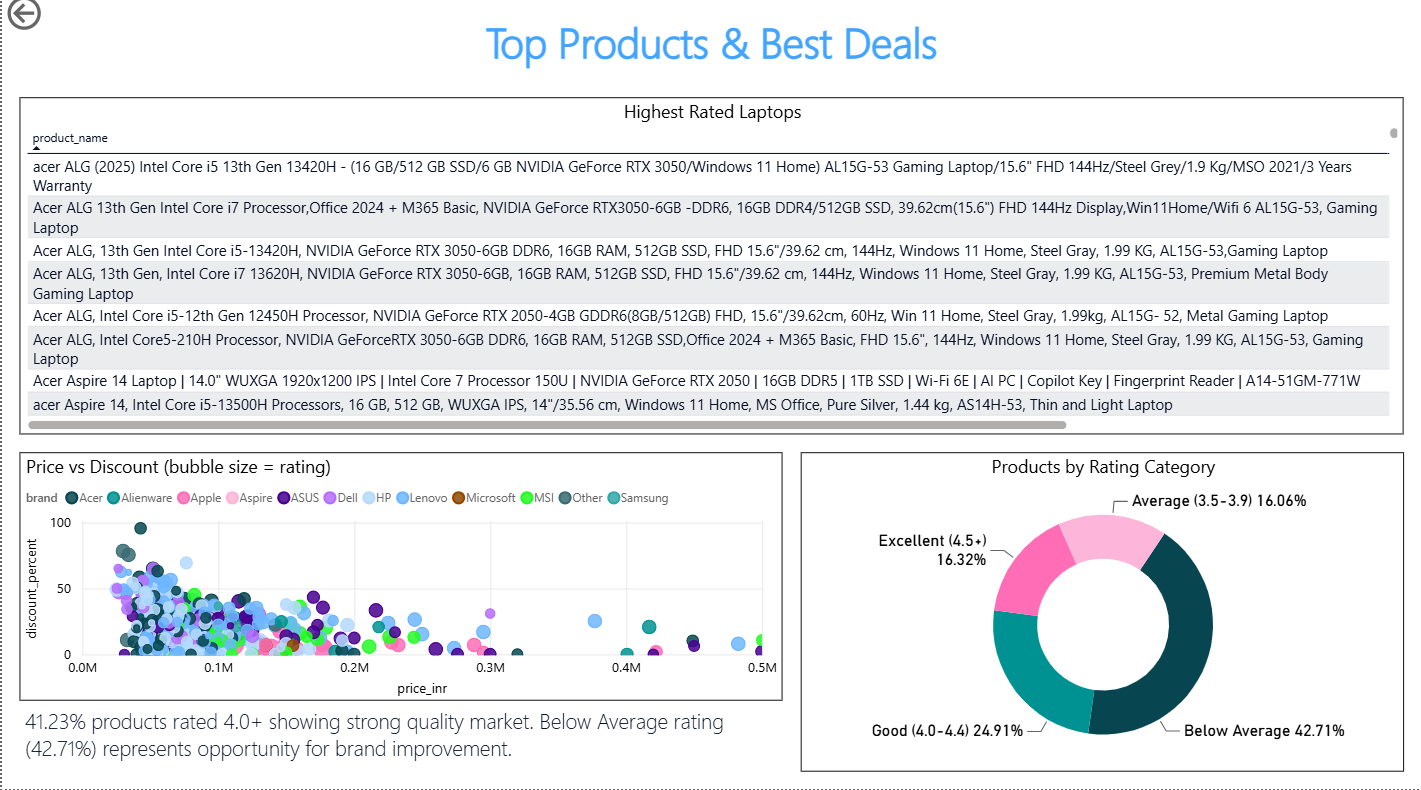

The page's visual inventory and layout, read from the dashboard file:
{"tool":"powerbi","page":{"name":"Top Products","canvas":[1280,720],"ordinal":3},"visuals":[{"type":"textbox","box":[16,16,1248,80],"z":0},{"type":"tableEx","title":"Highest Rated Laptops","fields":{"Values":["ecommerce_analytics vw_top_products.product_name","ecommerce_analytics vw_top_products.brand","ecommerce_analytics vw_top_products.price_inr","ecommerce_analytics vw_top_products.discount_percent","ecommerce_analytics vw_top_products.rating","ecommerce_analytics vw_top_products.price_segment"]},"box":[16,96,1248,304],"z":1000},{"type":"actionButton","box":[0,0,100,40],"z":2000},{"type":"scatterChart","title":"Price vs Discount (bubble size = rating)","fields":{"X":["ecommerce_analytics vw_top_products.price_inr"],"Y":["ecommerce_analytics vw_top_products.discount_percent"],"Series":["ecommerce_analytics vw_top_products.brand"],"Size":["Sum(ecommerce_analytics vw_top_products.rating)"]},"box":[16,416,688,224],"z":3000},{"type":"donutChart","title":"Products by Rating Category","fields":{"Category":["ecommerce_analytics vw_all_products.rating_category"],"Y":["CountNonNull(ecommerce_analytics vw_all_products.product_name)"]},"box":[720,416,544,288],"z":4000},{"type":"textbox","box":[16,640,688,64],"z":5000}]}

Visuals, with their boxes in screenshot pixels (x1, y1, x2, y2), scaled from the page's 1280x720 canvas onto the 1421x790 screenshot:
textbox: (left=18, top=18, right=1403, bottom=105)
"Highest Rated Laptops" tableEx: (left=18, top=105, right=1403, bottom=439)
actionButton: (left=0, top=0, right=111, bottom=44)
"Price vs Discount (bubble size = rating)" scatterChart: (left=18, top=456, right=782, bottom=702)
"Products by Rating Category" donutChart: (left=799, top=456, right=1403, bottom=772)
textbox: (left=18, top=702, right=782, bottom=772)
